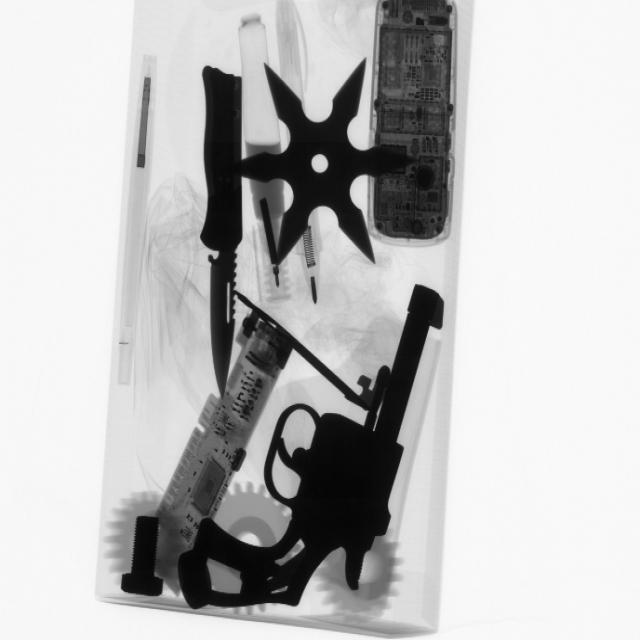GUN: (173, 280, 454, 623)
KNIFE: (185, 61, 252, 386)
SHURIKEN: (243, 58, 409, 273)
